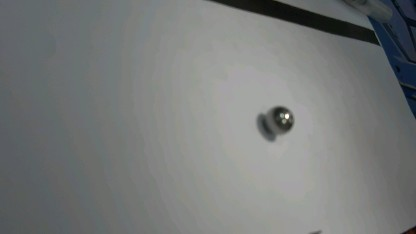ironball: (264, 105, 296, 135)
